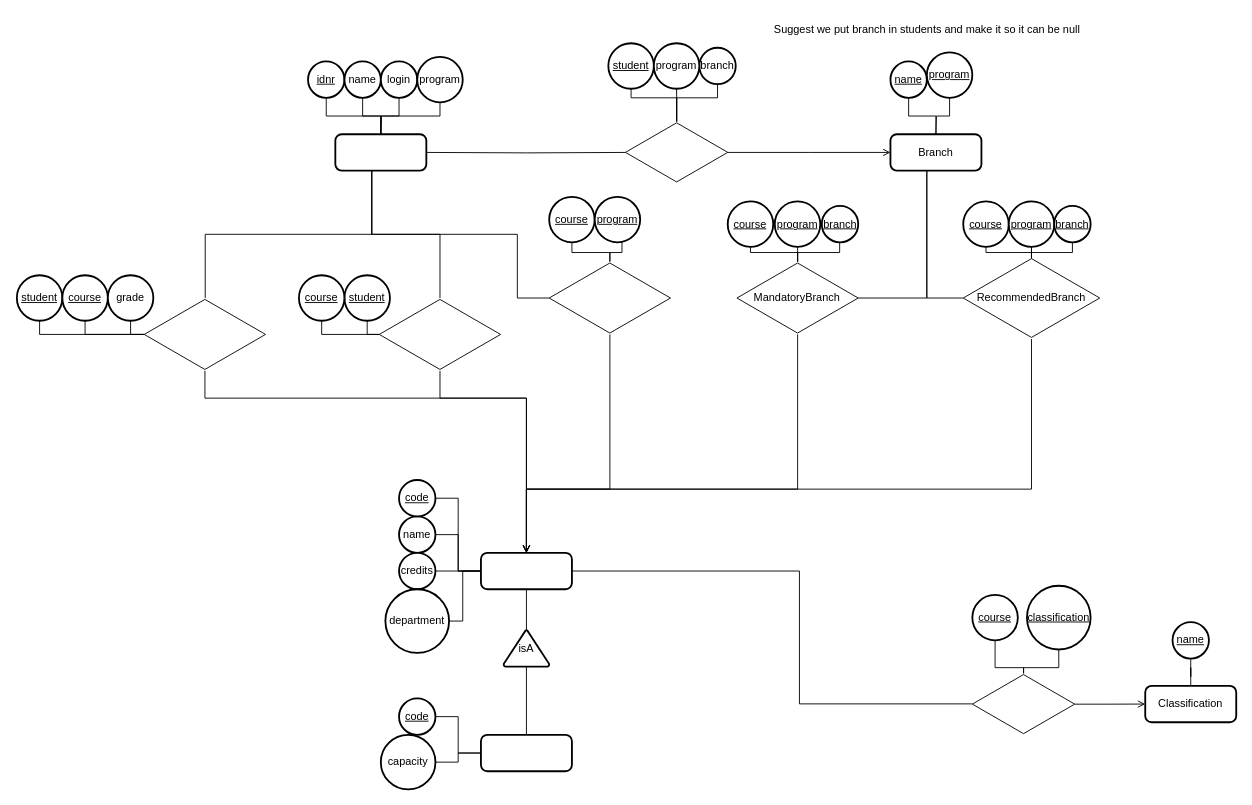
The diagram is 1252 pixels wide and 805 high, and some of its shapes have lost their labels. The shapes that lost their labels are listed below. From the top down, each one's centre as x and y in pixels, then its label:
point (380, 152): Students
point (676, 152): StudentBranches
point (609, 297): MandatoryProgram
point (204, 334): Taken
point (439, 334): Registered
point (526, 570): Courses
point (1023, 703): Classified
point (526, 752): LimitedCourses
